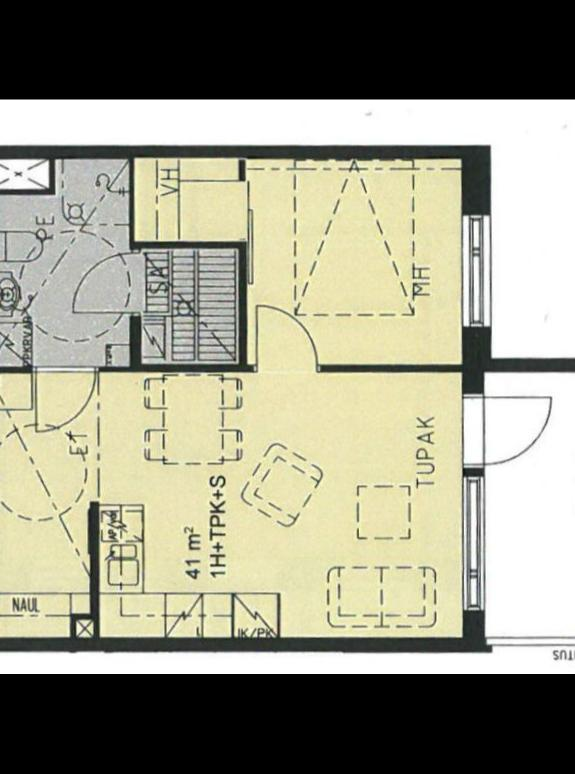bathroom: (0, 161, 132, 366)
door: (460, 393, 554, 477), (68, 245, 142, 320), (248, 300, 319, 378), (28, 365, 96, 434)
perimeter: (0, 144, 492, 650)
window: (457, 208, 494, 338), (456, 474, 486, 614)
